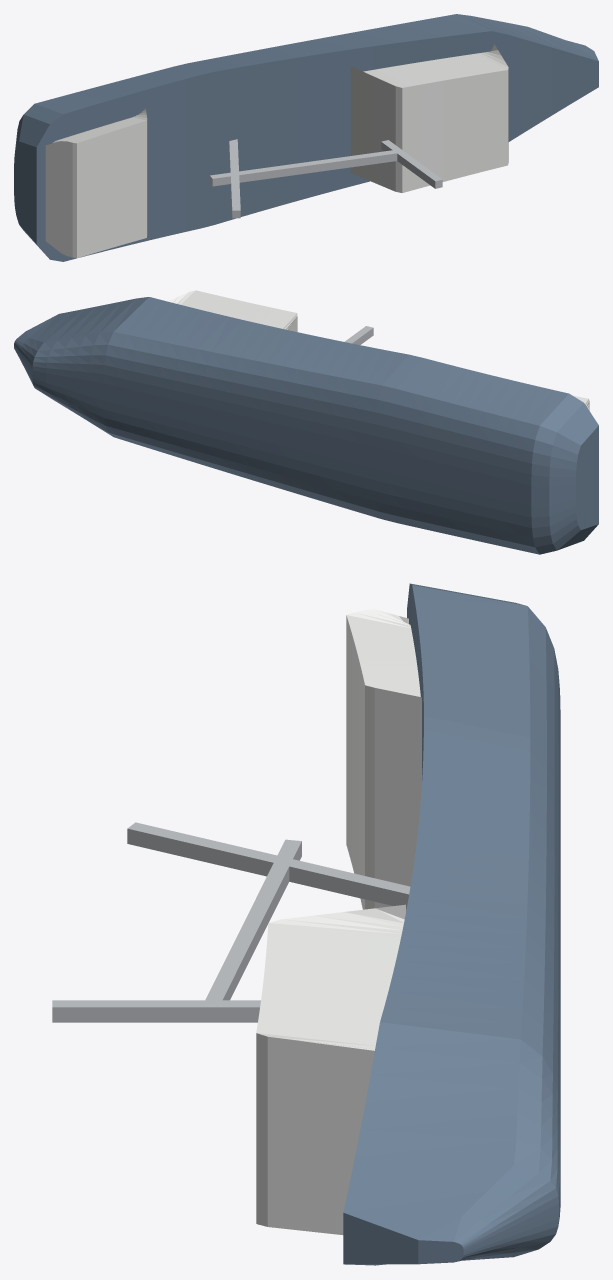
File: seiner-loft-sheered.glb
3 renders of one model, top to bottom at view 1: azimuth 30°, elevation 25°; view 2: azimuth 150°, elevation 25°; view 3: azimuth 270°, elevation 25°, orthographic. The views are drawn at different scales.
Parts seen in each view (by area): view 1: seiner-loft-sheered; view 2: seiner-loft-sheered; view 3: seiner-loft-sheered.
Boxes of the visible parts, x1,y1,x2,y2 form: seiner-loft-sheered: (14,14,598,261); seiner-loft-sheered: (14,290,598,554); seiner-loft-sheered: (52,583,560,1265).
Size of the model in its own units: 1.84 by 0.4819 by 0.7225.
